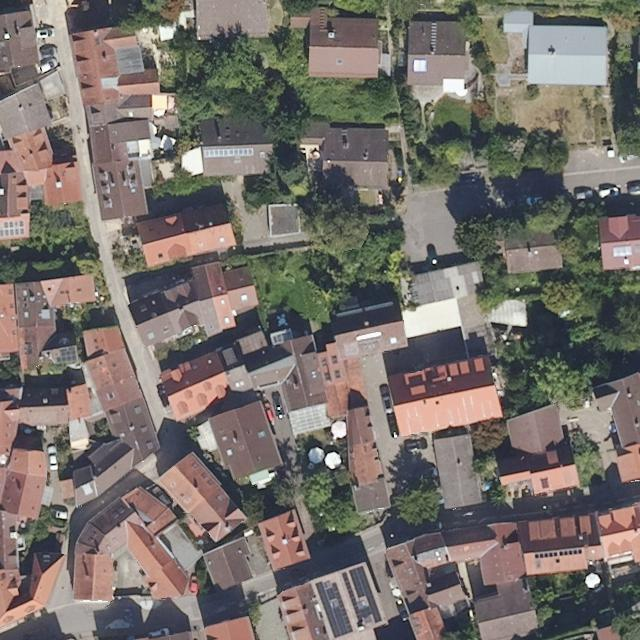PV: (315, 580, 355, 639), (348, 565, 383, 624), (340, 571, 364, 623), (203, 147, 255, 158), (534, 549, 583, 560), (0, 220, 26, 238), (55, 345, 78, 364), (612, 245, 632, 258), (413, 57, 427, 72)
